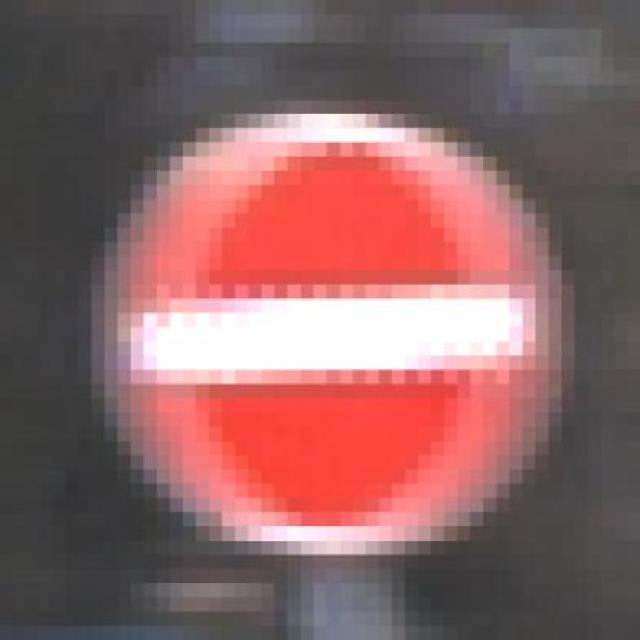No Entry: (39, 99, 575, 555)
